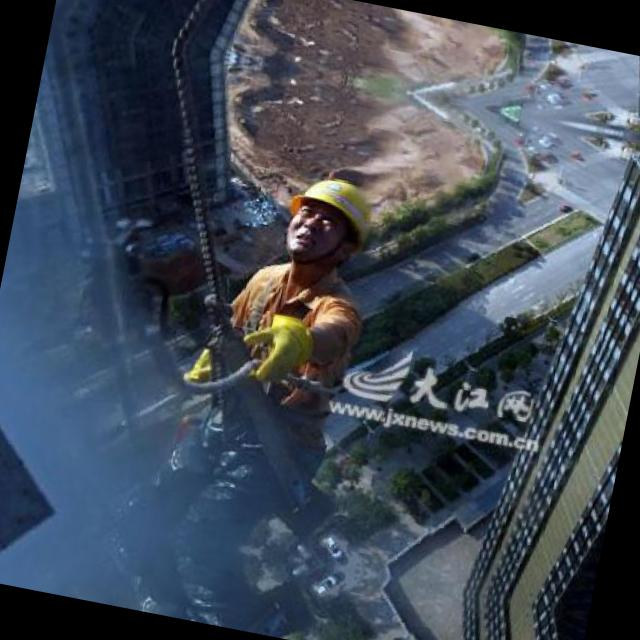helmet: (256, 156, 388, 288)
